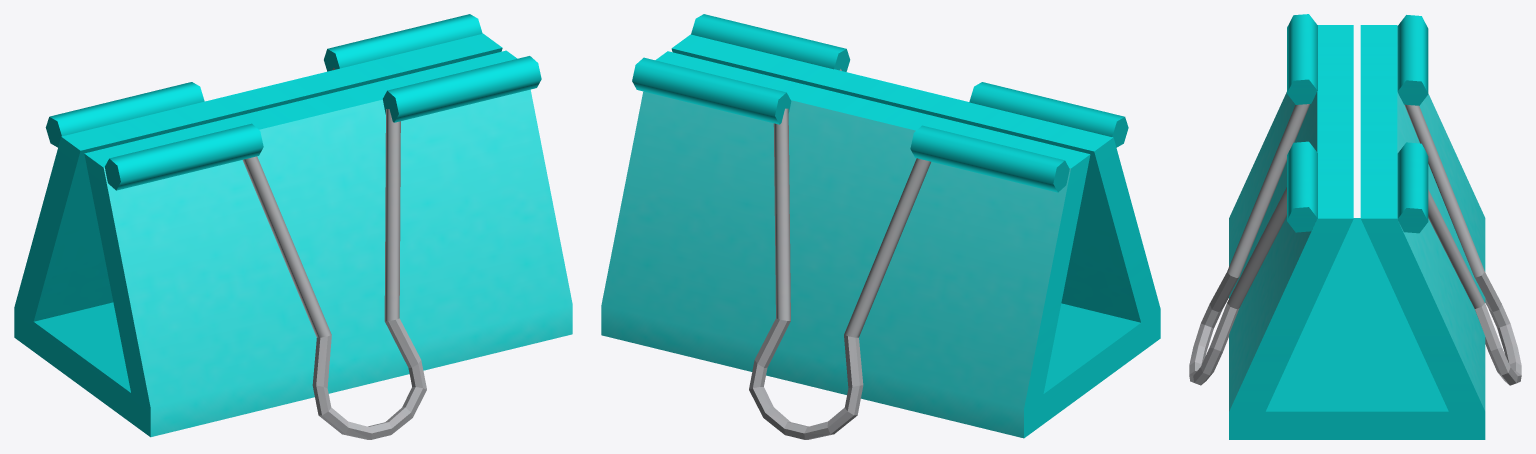
Rendered from SM_Clip003.fbx.
3 renders of one model, left to right at view 1: azimuth 30°, elevation 25°; view 2: azimuth 150°, elevation 25°; view 3: azimuth 270°, elevation 25°, orthographic. The views are drawn at different scales.
Parts seen in each view (by area): view 1: SM_Clip003; view 2: SM_Clip003; view 3: SM_Clip003.
Part boxes in pixels (box(x1,y1,x2,y2)): SM_Clip003: box(14, 14, 572, 439); SM_Clip003: box(601, 14, 1160, 439); SM_Clip003: box(1189, 14, 1521, 439).
Size of the model in its own units: 14.74 by 9.57 by 10.69.
